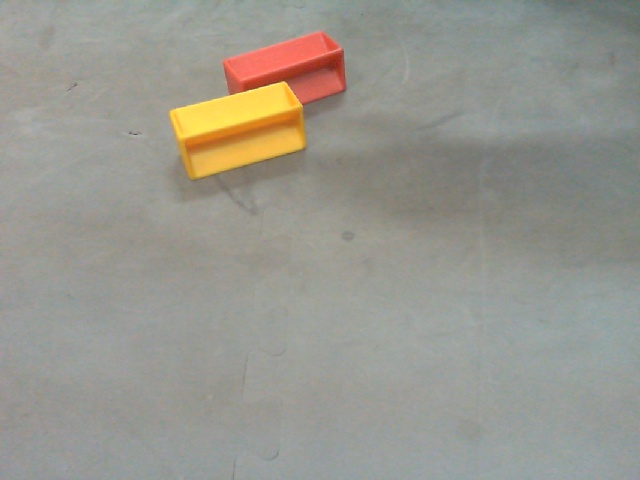RedSample: (221, 30, 345, 109)
YellowSample: (167, 80, 309, 181)
